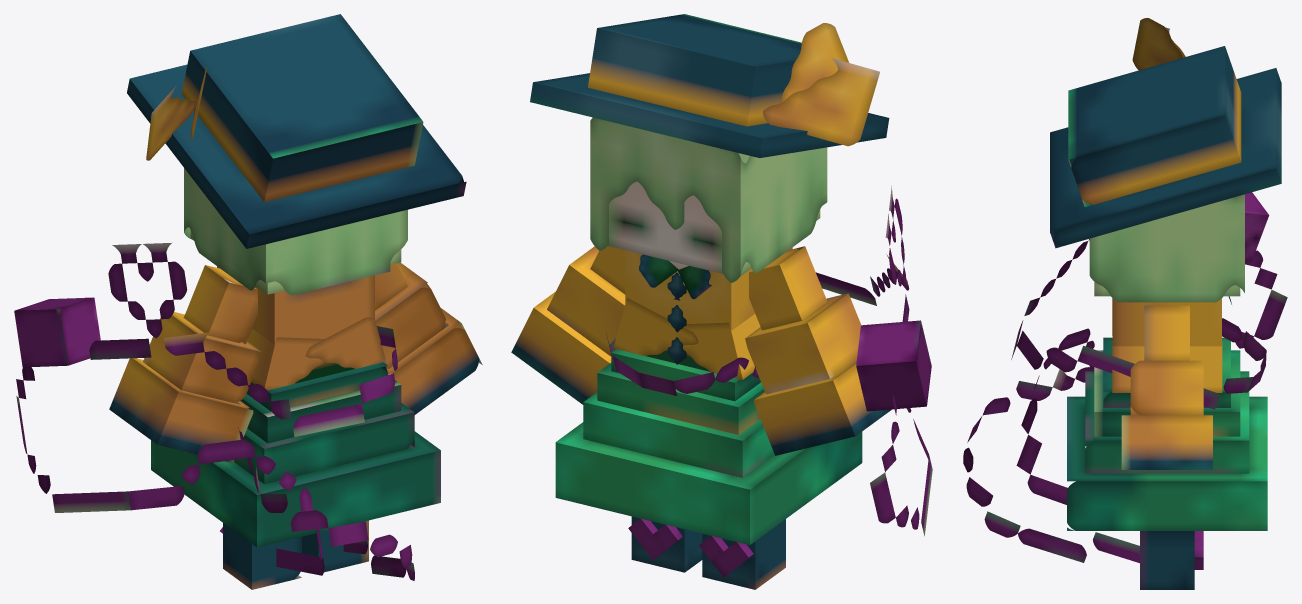
The model's file is komeiji_koishi_2.obj.
3 renders of one model, left to right at view 1: azimuth 30°, elevation 25°; view 2: azimuth 150°, elevation 25°; view 3: azimuth 270°, elevation 25°, orthographic. The views are drawn at different scales.
Visible parts, largest first — view 1: hat, sittingRotationSkirt, armLeft, head, armRight, body, eye, legLeft, heart, clothLeft, clothRight, bone50 (+11 smaller); view 2: sittingRotationSkirt, hat, head, armLeft, armRight, blink, eye, body, clothLeft, legLeft, clothRight, legRight (+9 smaller); view 3: hat, sittingRotationSkirt, head, armRight, legRight, body, clothRight, bone54, bone67, eye, bone72, bone6 (+10 smaller).
Boxes of the visible parts, x1,y1,x2,y2 form: hat: [127, 14, 466, 248]; sittingRotationSkirt: [151, 362, 440, 547]; armLeft: [109, 265, 260, 462]; head: [184, 168, 407, 295]; armRight: [375, 262, 482, 414]; body: [217, 266, 374, 383]; eye: [14, 297, 100, 367]; legLeft: [223, 523, 301, 589]; heart: [108, 242, 187, 338]; clothLeft: [247, 329, 324, 390]; clothRight: [305, 317, 386, 368]; bone50: [164, 332, 291, 419]; sittingRotationSkirt: [555, 349, 862, 544]; hat: [530, 14, 889, 157]; head: [590, 117, 827, 282]; armLeft: [745, 246, 891, 455]; armRight: [511, 246, 625, 404]; blink: [608, 181, 722, 273]; eye: [856, 320, 931, 411]; body: [625, 247, 792, 371]; clothLeft: [683, 314, 760, 379]; legLeft: [702, 519, 785, 589]; clothRight: [613, 298, 698, 356]; legRight: [631, 516, 702, 572]; hat: [1050, 18, 1281, 248]; sittingRotationSkirt: [1067, 337, 1267, 530]; head: [1089, 194, 1244, 302]; armRight: [1121, 305, 1212, 469]; legRight: [1140, 531, 1194, 589]; body: [1112, 298, 1221, 346]; clothRight: [1112, 339, 1222, 392]; bone54: [1077, 345, 1220, 409]; bone67: [1018, 528, 1086, 562]; eye: [1245, 192, 1269, 261]; bone72: [1254, 290, 1287, 339]; bone6: [1093, 532, 1139, 563].
Bounding box in the file's own units: 1.5 × 1.9 × 1.12.
Materials: 1 (1 with a texture image).
